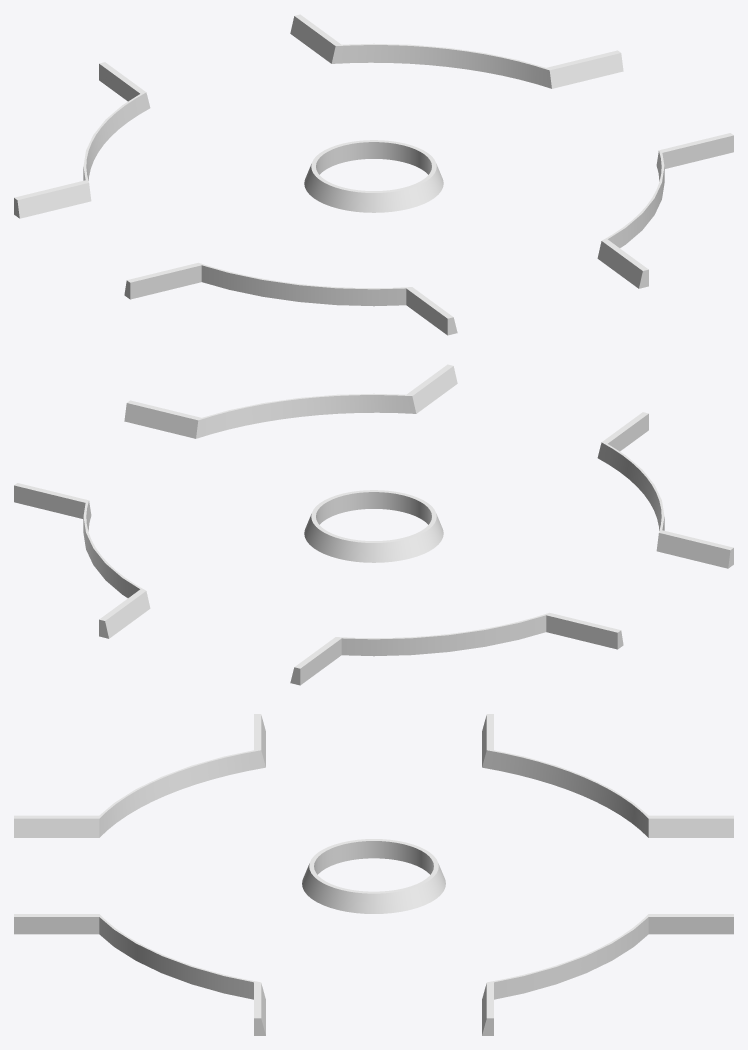
The model's file is road-roundabout-barrier.gltf.
The picture shows the model from 3 angles, top to bottom: view 1: azimuth 30°, elevation 25°; view 2: azimuth 150°, elevation 25°; view 3: azimuth 270°, elevation 25°; orthographic projection. The views are drawn at different scales.
Parts seen in each view (by area): view 1: road-roundabout-barrier; view 2: road-roundabout-barrier; view 3: road-roundabout-barrier.
Boxes of the visible parts, left/top/right/bottom form: road-roundabout-barrier: left=14, top=14, right=733, bottom=335; road-roundabout-barrier: left=14, top=364, right=733, bottom=685; road-roundabout-barrier: left=14, top=714, right=733, bottom=1035.
Bounding box in the file's own units: 3 × 0.08 × 3.
Materials: 1 (1 with a texture image).
